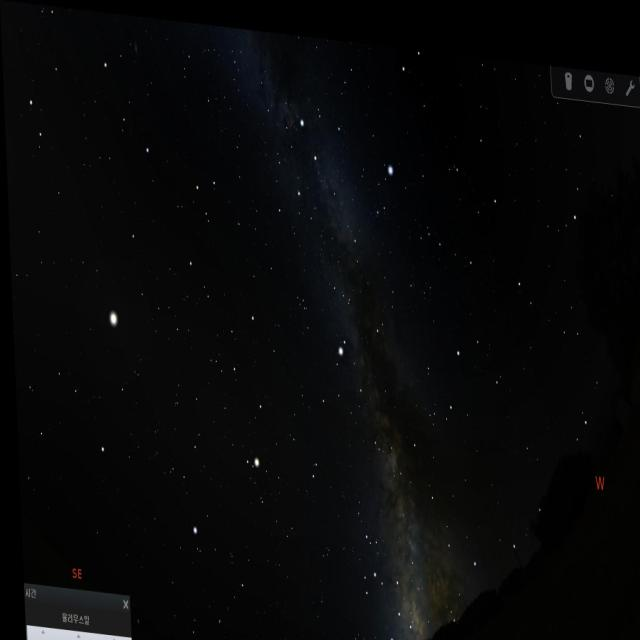aquila: (312, 336, 388, 452)
cygnus: (285, 99, 361, 272)
lyra: (363, 136, 396, 227)
sagittarius: (363, 552, 413, 640)
